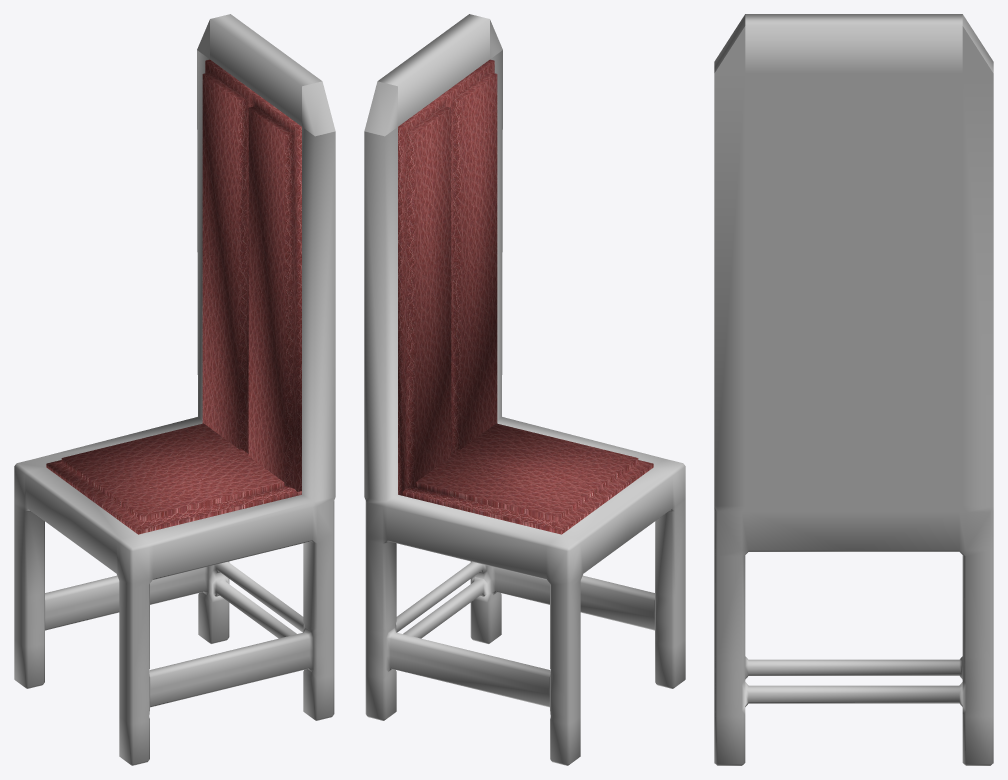
The model's file is chairf.fbx.
The picture shows the model from 3 angles, left to right: view 1: azimuth 30°, elevation 25°; view 2: azimuth 150°, elevation 25°; view 3: azimuth 270°, elevation 25°; orthographic projection. The views are drawn at different scales.
Visible parts, largest first — view 1: Cube.001; view 2: Cube.001; view 3: Cube.001.
Part boxes in pixels (<box>): Cube.001: <box>14,14,335,765</box>; Cube.001: <box>364,14,685,765</box>; Cube.001: <box>714,14,993,765</box>.
Size of the model in its own units: 200 by 585 by 200.
